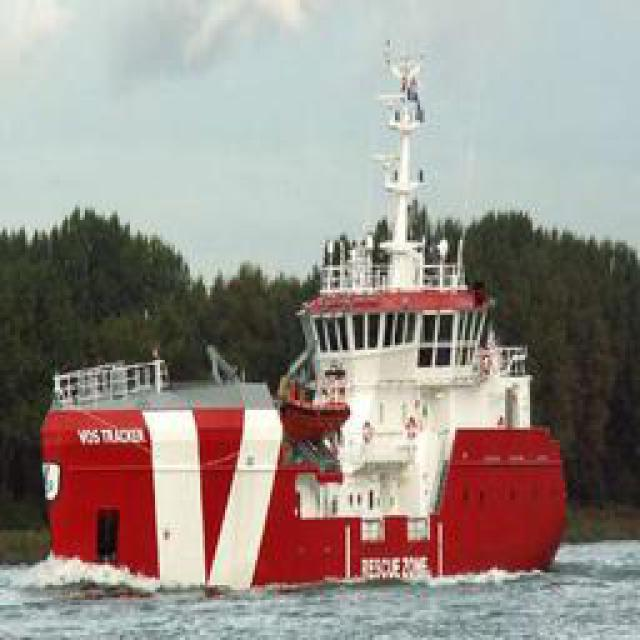Ship: (131, 31, 544, 604)
